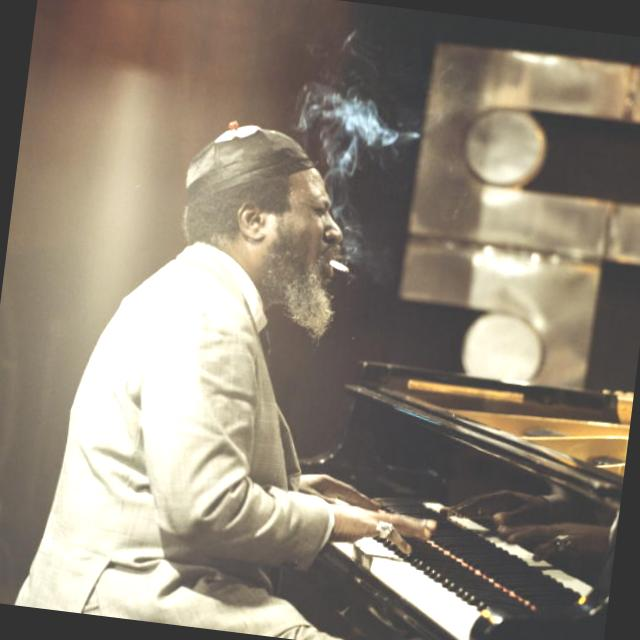smoke: (326, 254, 358, 277)
